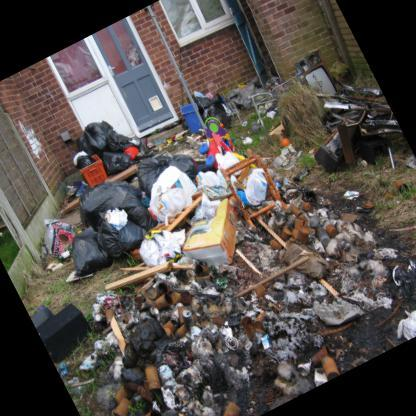Garbage: (312, 194, 408, 298), (280, 268, 360, 360), (115, 138, 195, 209), (131, 210, 204, 286), (72, 168, 146, 240), (72, 196, 148, 259), (140, 172, 200, 233), (138, 360, 196, 408), (66, 340, 118, 390), (55, 234, 103, 284), (324, 167, 365, 216), (74, 117, 120, 160), (388, 283, 415, 342), (238, 165, 272, 204), (196, 156, 230, 194)
